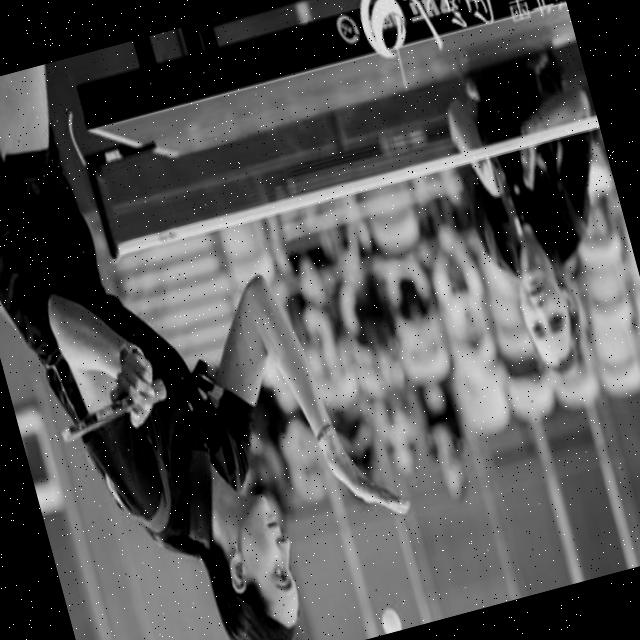ping-pong-ball: (371, 600, 404, 636)
